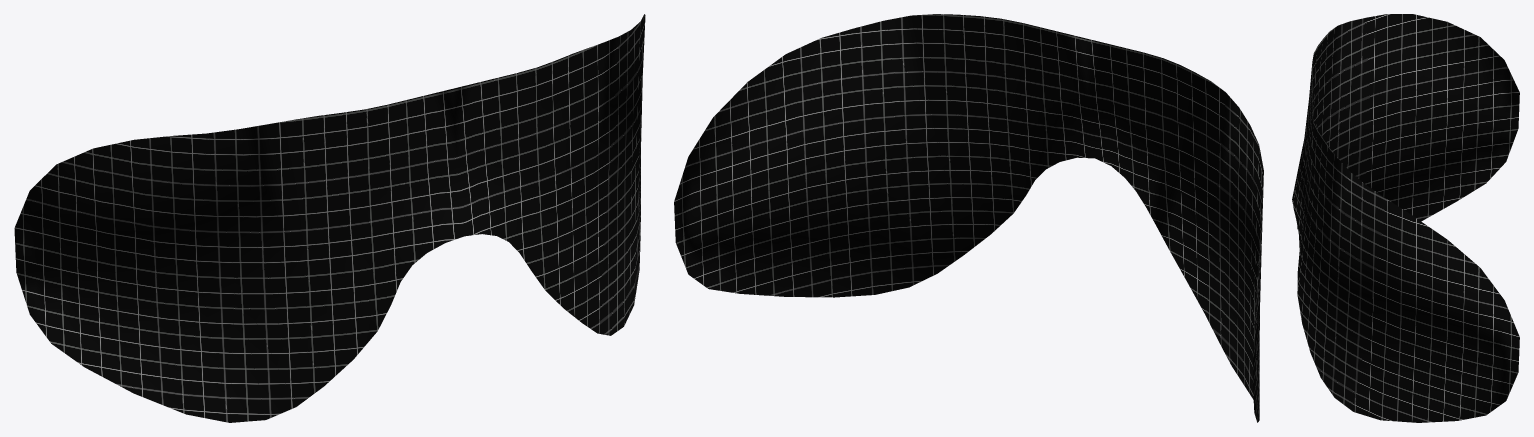
File: WrenchMask_Grid.obj
The picture shows the model from 3 angles, left to right: view 1: azimuth 30°, elevation 25°; view 2: azimuth 150°, elevation 25°; view 3: azimuth 270°, elevation 25°; orthographic projection. The views are drawn at different scales.
Visible parts, largest first — view 1: wrenchmaskf_grid; view 2: wrenchmaskf_grid; view 3: wrenchmaskf_grid.
Part boxes in pixels (x1,y1,x2,y2): wrenchmaskf_grid: (14,14,645,422); wrenchmaskf_grid: (674,14,1263,422); wrenchmaskf_grid: (1292,14,1519,422).
Size of the model in its own units: 7.07 by 3.32 by 2.78.
